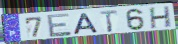6: (125, 8, 146, 31)
7: (24, 16, 43, 39)
A: (71, 12, 100, 36)
E: (45, 12, 73, 39)
H: (149, 5, 173, 30)
T: (99, 9, 119, 34)
